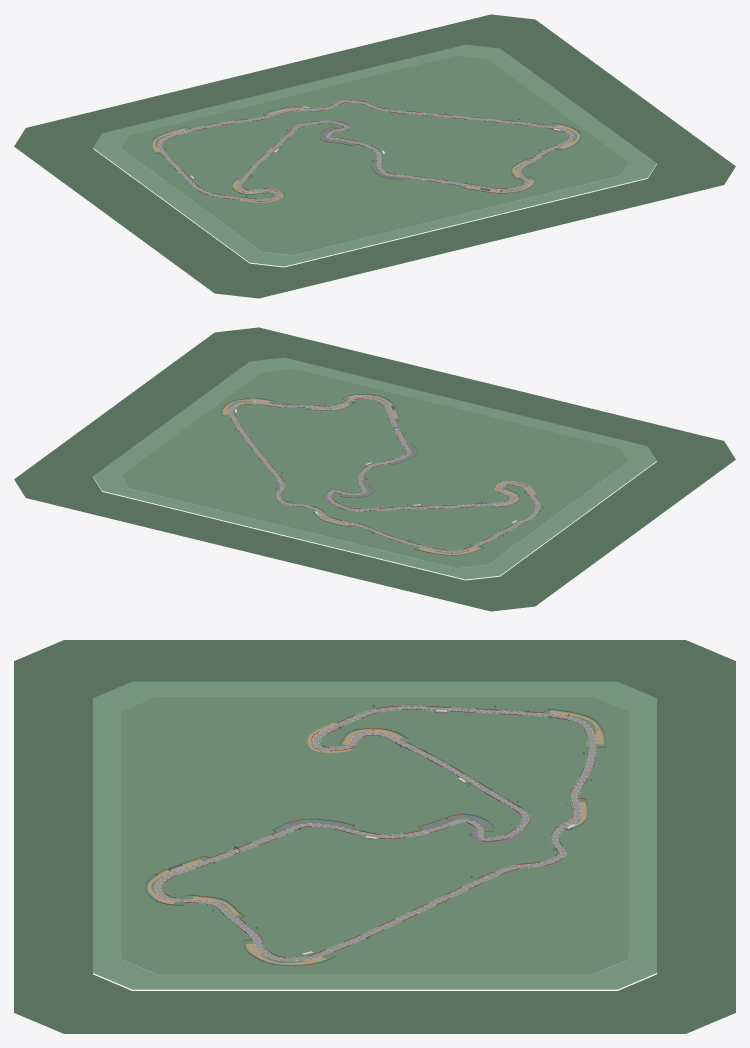
The model's file is silverstone.glb.
The picture shows the model from 3 angles, top to bottom: view 1: azimuth 30°, elevation 25°; view 2: azimuth 150°, elevation 25°; view 3: azimuth 270°, elevation 25°; orthographic projection. The views are drawn at different scales.
Parts seen in each view (by area): view 1: terrain_infield, terrain_outskirts, terrain_verge, track_embankment, track_surface, continuous_safety_barriers, track_runoff, gravel_runoff_zones, track_curbs; view 2: terrain_infield, terrain_outskirts, terrain_verge, track_embankment, track_surface, continuous_safety_barriers, track_runoff, gravel_runoff_zones, track_curbs; view 3: terrain_infield, terrain_outskirts, terrain_verge, track_embankment, track_surface, continuous_safety_barriers, track_runoff, gravel_runoff_zones, track_curbs, asphalt_runoff_zones.
Boxes of the visible parts, <box> form: terrain_infield: <box>121,55,628,255</box>; terrain_outskirts: <box>14,14,735,298</box>; terrain_verge: <box>93,44,656,266</box>; track_embankment: <box>150,97,581,204</box>; track_surface: <box>158,100,573,200</box>; continuous_safety_barriers: <box>151,100,581,201</box>; track_runoff: <box>157,100,574,199</box>; gravel_runoff_zones: <box>152,107,579,202</box>; track_curbs: <box>158,100,573,201</box>; terrain_infield: <box>121,368,628,568</box>; terrain_outskirts: <box>14,327,735,611</box>; terrain_verge: <box>93,357,656,579</box>; track_embankment: <box>220,393,547,555</box>; track_surface: <box>229,397,539,552</box>; continuous_safety_barriers: <box>221,394,540,555</box>; track_runoff: <box>229,396,540,552</box>; gravel_runoff_zones: <box>223,395,536,554</box>; track_curbs: <box>228,396,539,552</box>; terrain_infield: <box>121,697,628,973</box>; terrain_outskirts: <box>14,640,735,1033</box>; terrain_verge: <box>93,681,656,989</box>; track_embankment: <box>142,701,607,966</box>; track_surface: <box>155,707,594,960</box>; continuous_safety_barriers: <box>145,705,605,965</box>; track_runoff: <box>153,706,595,961</box>; gravel_runoff_zones: <box>147,710,603,964</box>; track_curbs: <box>155,706,594,960</box>; asphalt_runoff_zones: <box>277,815,525,843</box>.
Size of the model in its own units: 2594 by 24.42 by 2009.
